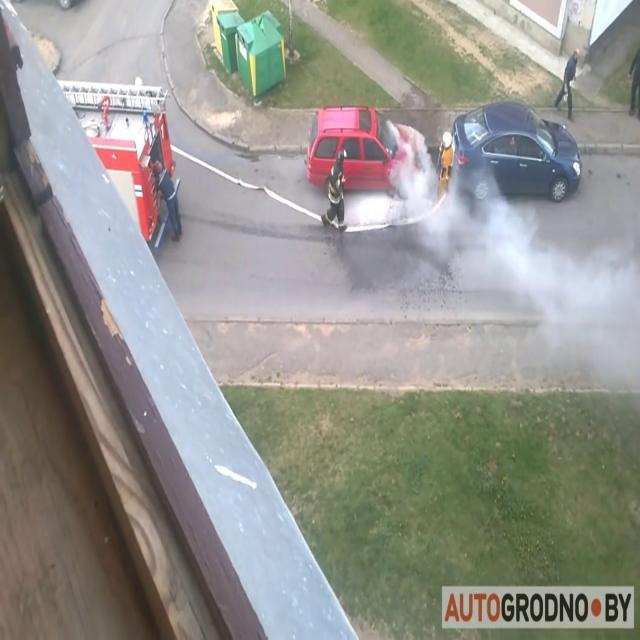Smoke: (400, 139, 528, 302), (510, 225, 640, 363)
